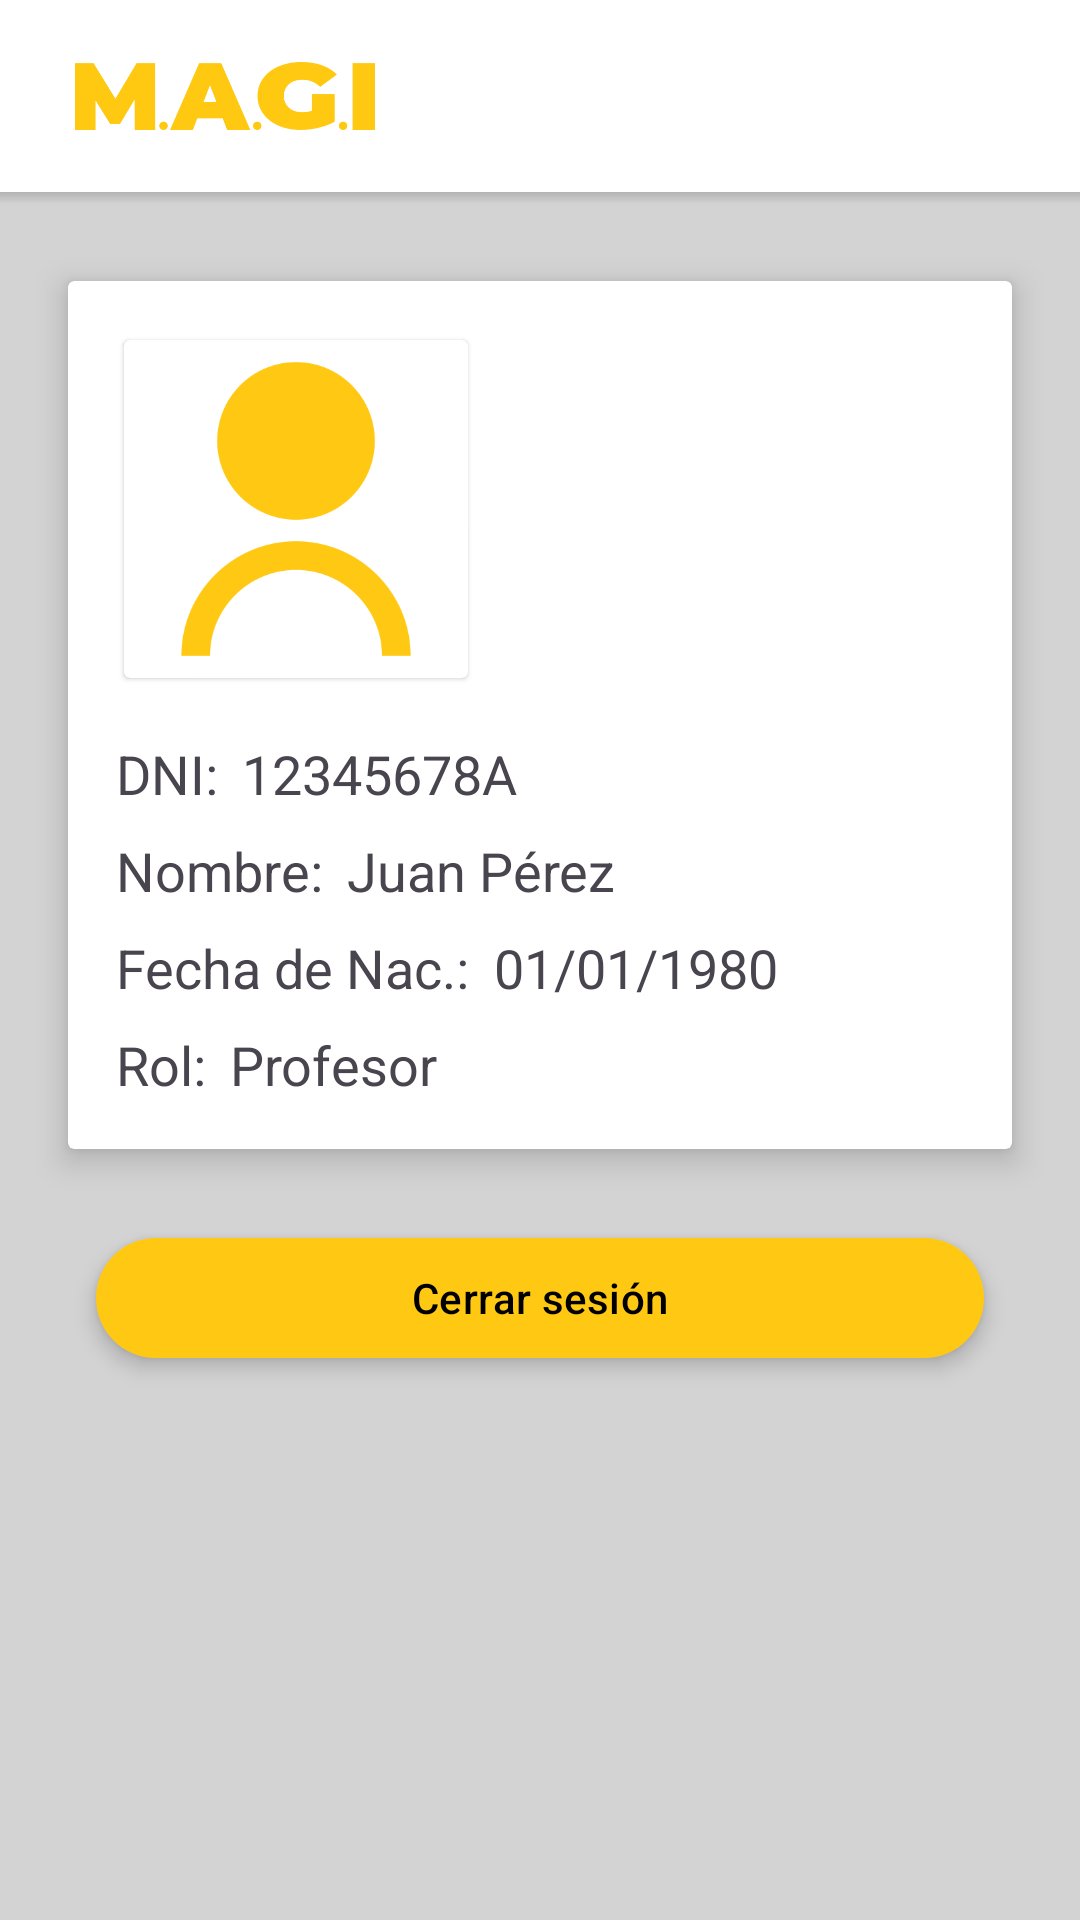

Named icons in this screenshot (1080*1920) and their centers, [x,y]:
person: [295,520]
